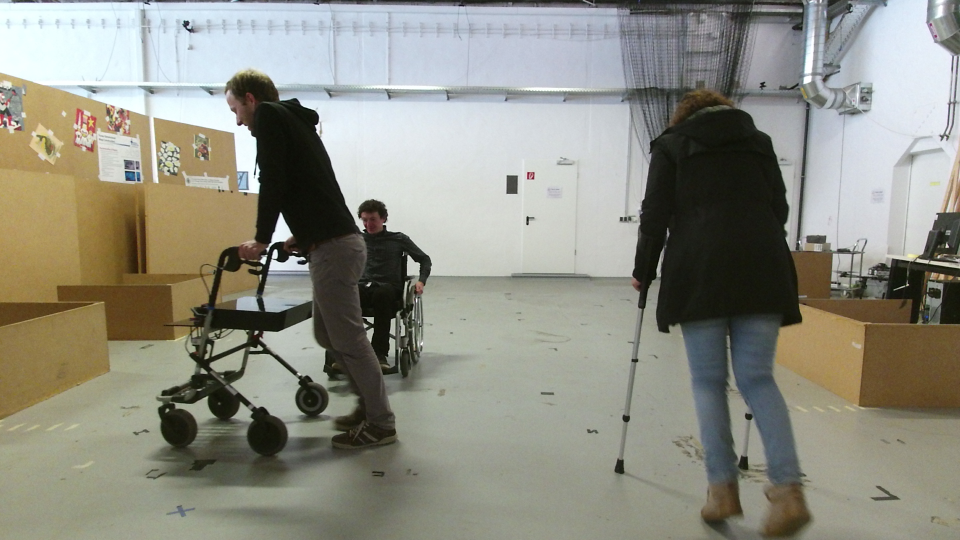crutches: (611, 85, 817, 540)
wheelchair: (331, 191, 434, 380)
